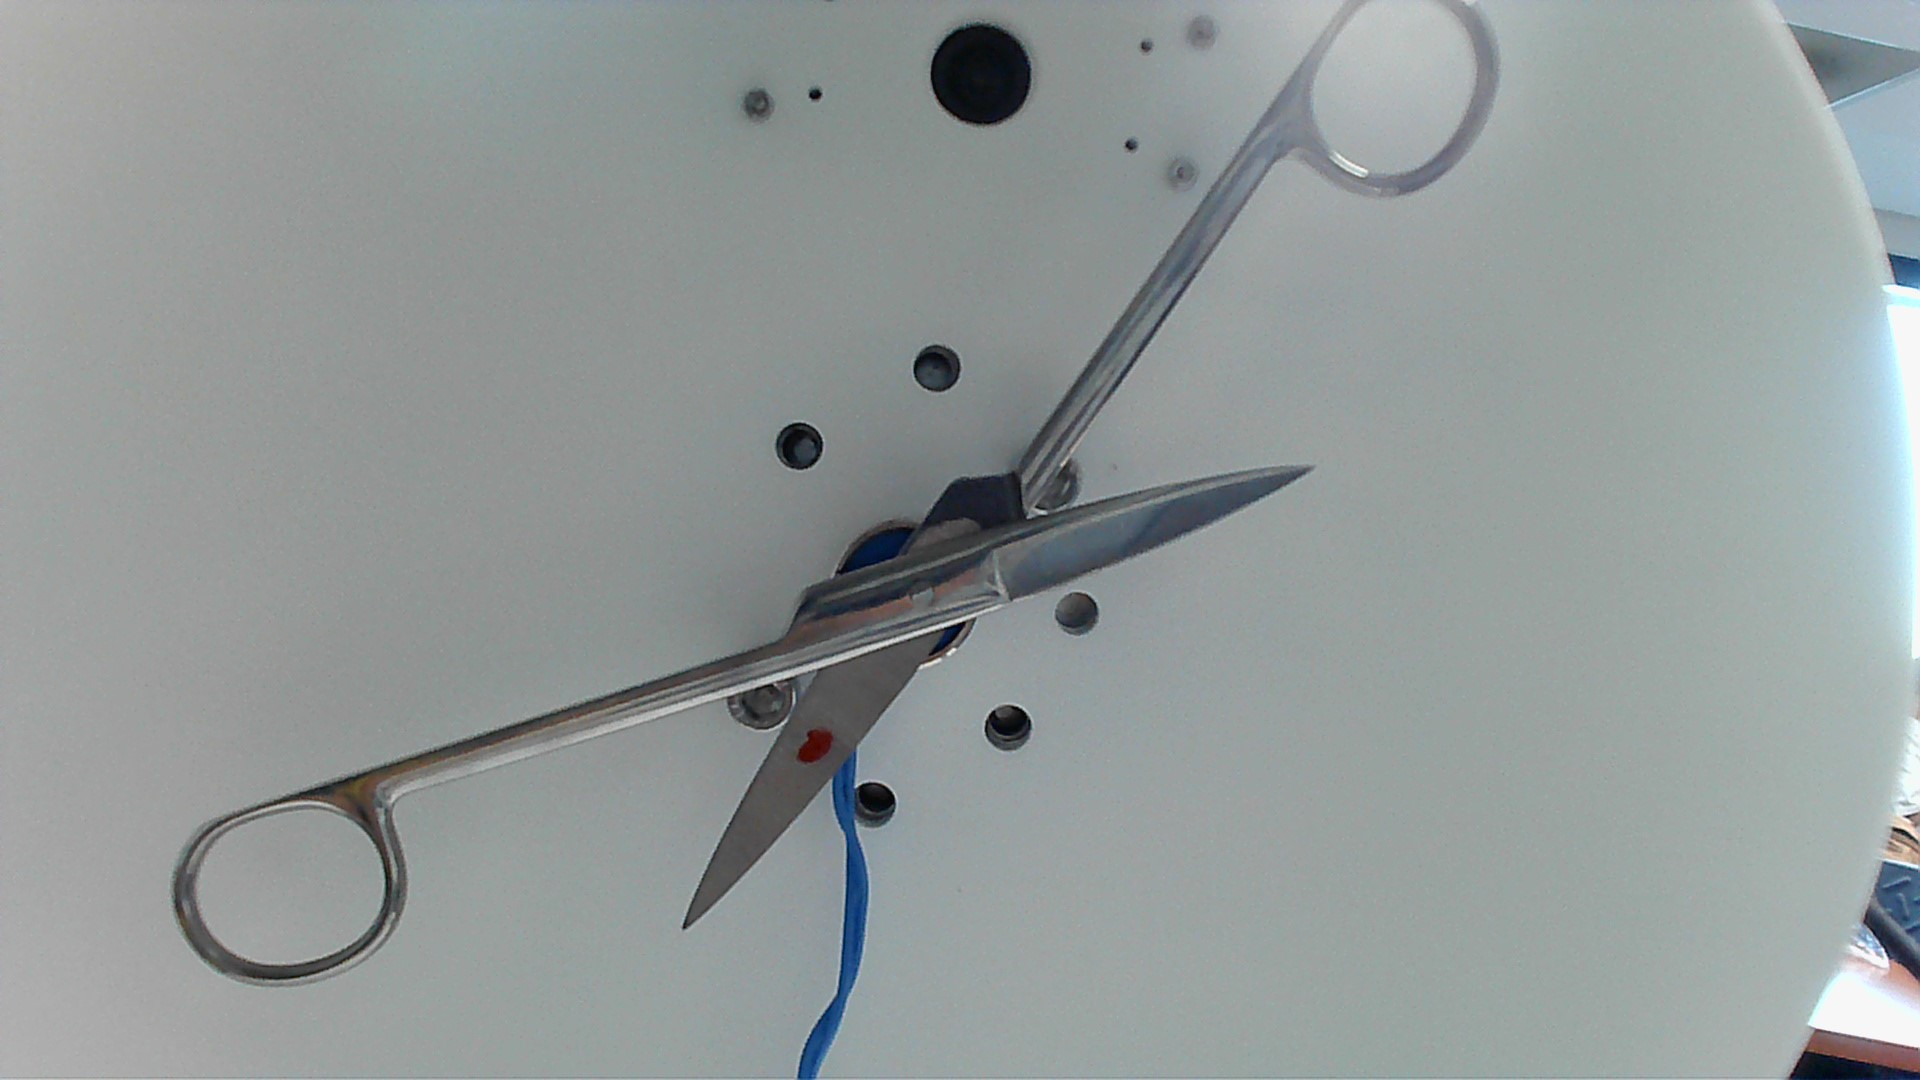Stain: (791, 720, 844, 770)
